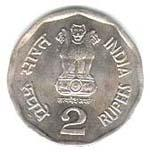coin: (5, 2, 146, 149)
